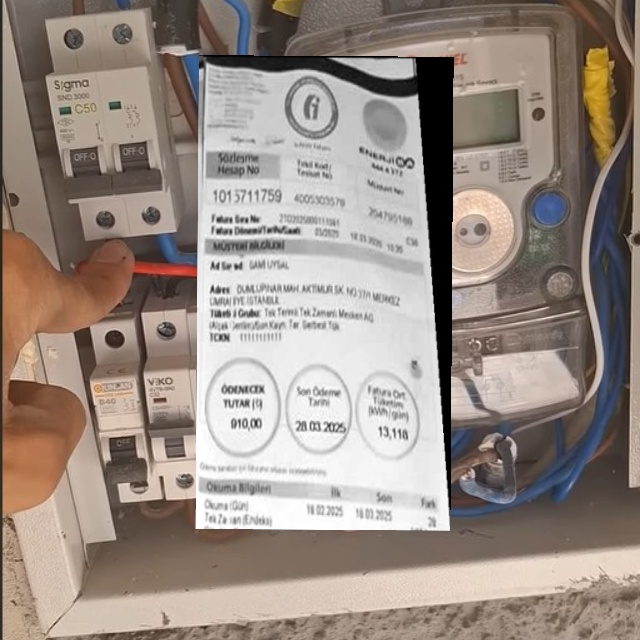electricity-bill: (195, 54, 453, 530)
